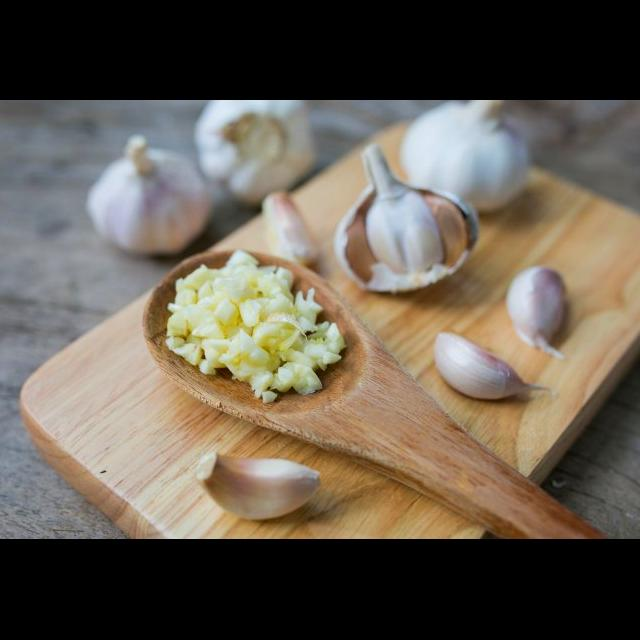garlic: (190, 442, 328, 532), (418, 326, 544, 410), (501, 260, 580, 363)
